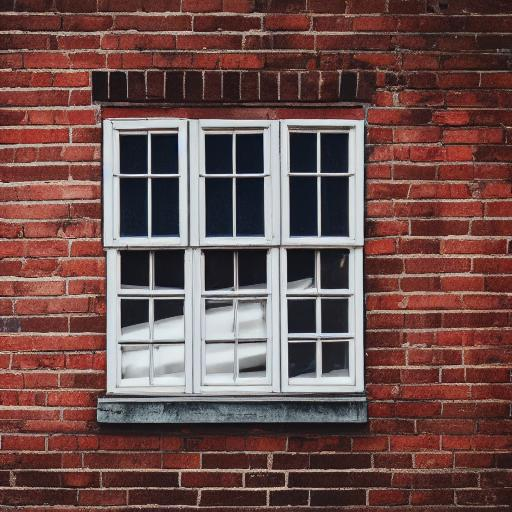Window: (84, 72, 375, 428)
